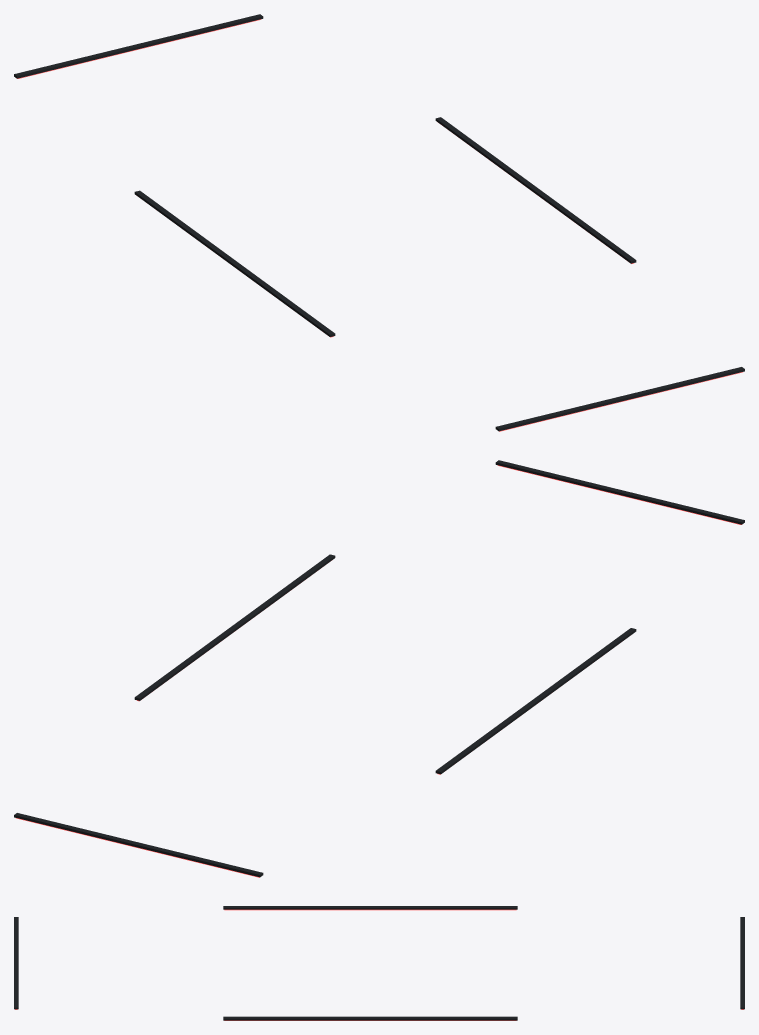
Rendered from ridgeback_4x4.glb.
3 views of the same model, one above another, from view 1: azimuth 30°, elevation 25°; view 2: azimuth 150°, elevation 25°; view 3: azimuth 270°, elevation 25° (orthographic). The views are drawn at different scales.
Parts seen in each view (by area): view 1: model; view 2: model; view 3: model.
Boxes of the visible parts, x1,y1,x2,y2 form: model: (14,14,744,431); model: (14,460,744,877); model: (14,906,744,1020).
Size of the model in its own units: 1.61 by 0.0178 by 4.41.
Materials: 2 (1 with a texture image).
